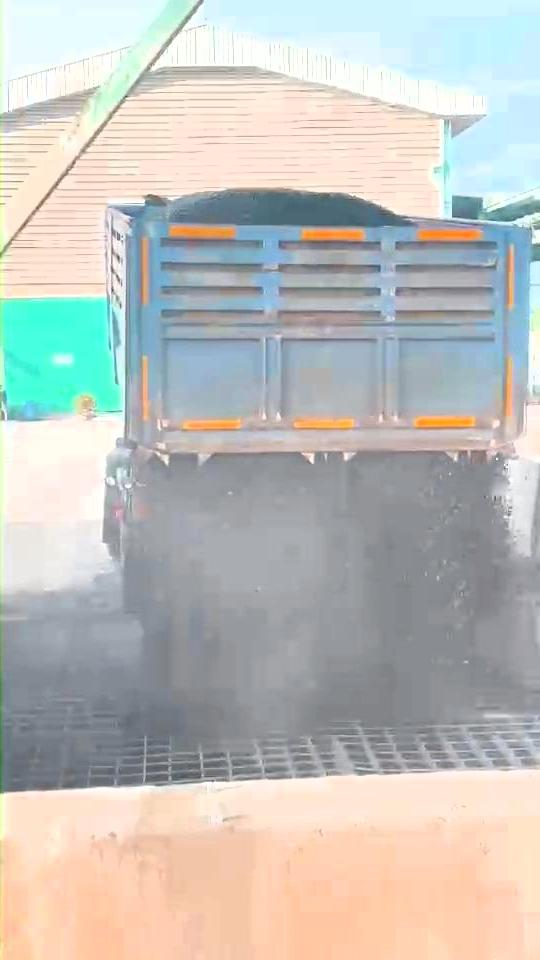gravel: (124, 454, 506, 732), (172, 189, 405, 226)
